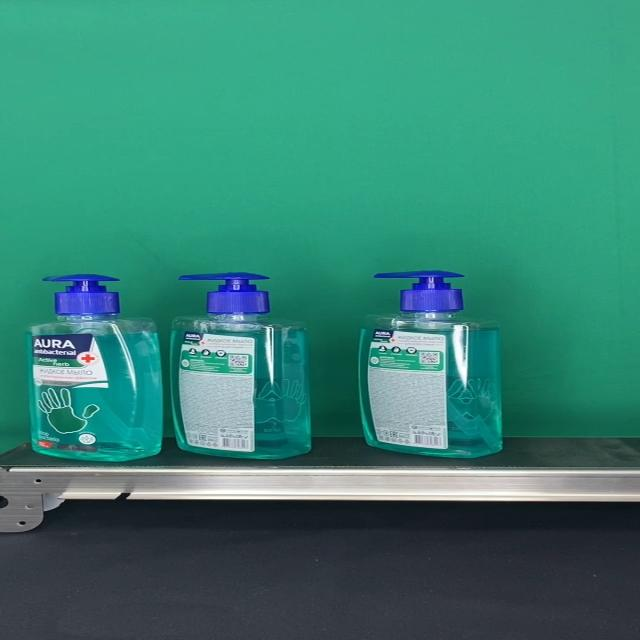Bottle: (357, 270, 502, 458), (169, 272, 311, 459), (26, 273, 162, 461)
Cap: (177, 272, 269, 315), (375, 270, 466, 312), (41, 273, 121, 314)
